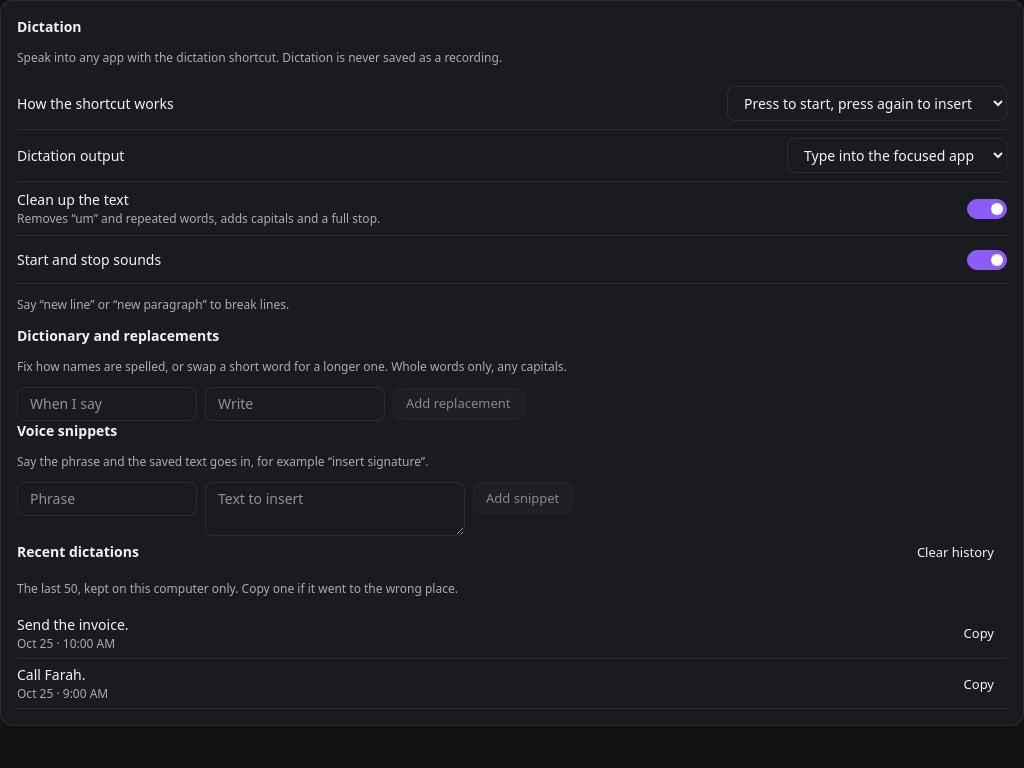
dictation settings (B14) › lists recent dictations, copies one and clears them
Check: the number of list items is 2, box x1=17 y1=609 x2=1007 y2=659; x1=17 y1=659 x2=1007 y2=709
What coordinates should you click on to do the following:
click the button "Copy" in the row of "Oct 25 · 9:00 AM"
I would click on:
 (979, 684)
Its box is x1=950 y1=668 x2=1007 y2=700.
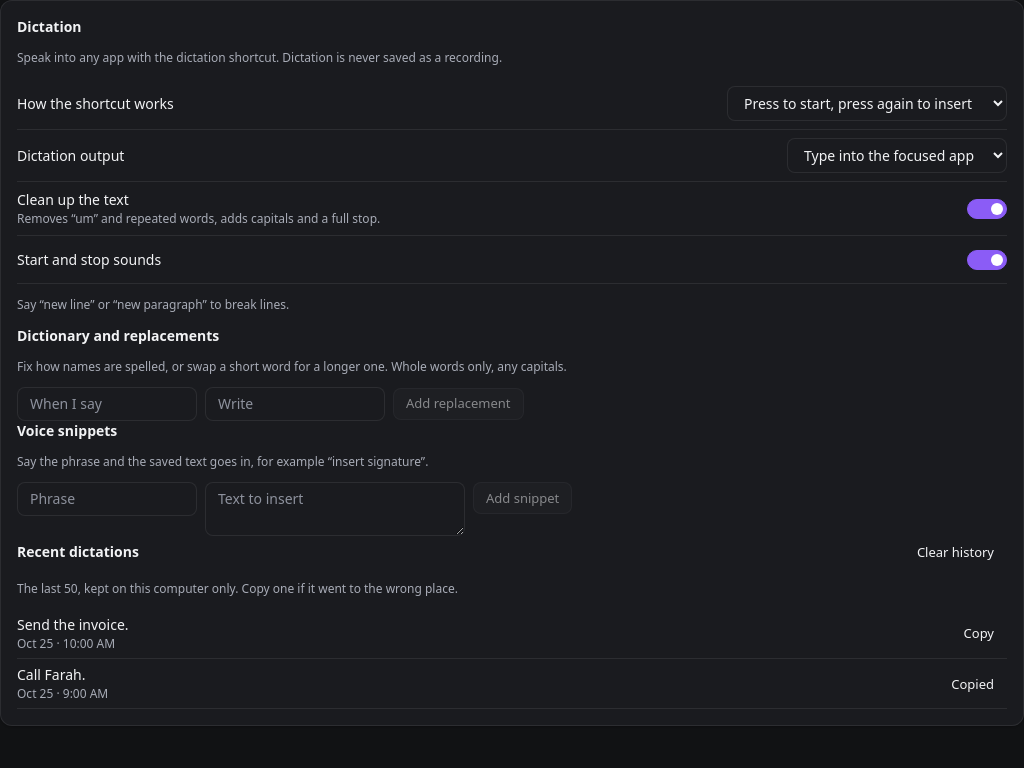
Check: the button "Copied" is shown, box x1=938 y1=668 x2=1007 y2=700
What coordinates should you click on to do the following:
click the button "Clear history"
I would click on:
 (955, 552)
Its box is x1=904 y1=536 x2=1007 y2=568.
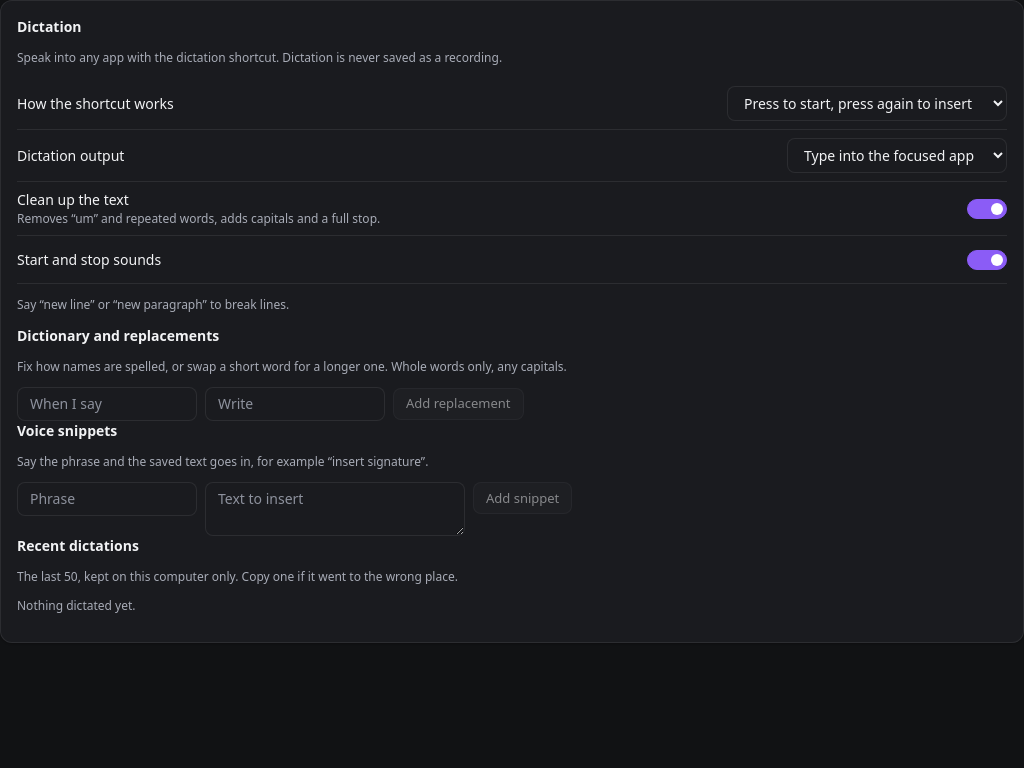
Check: the text "Nothing dictated yet." is shown, box x1=17 y1=597 x2=136 y2=614
